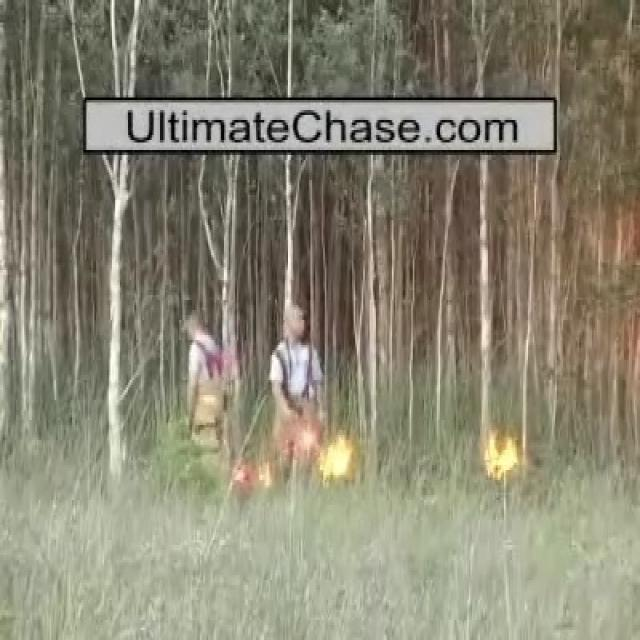fire: (484, 431, 518, 476), (321, 437, 349, 481)
